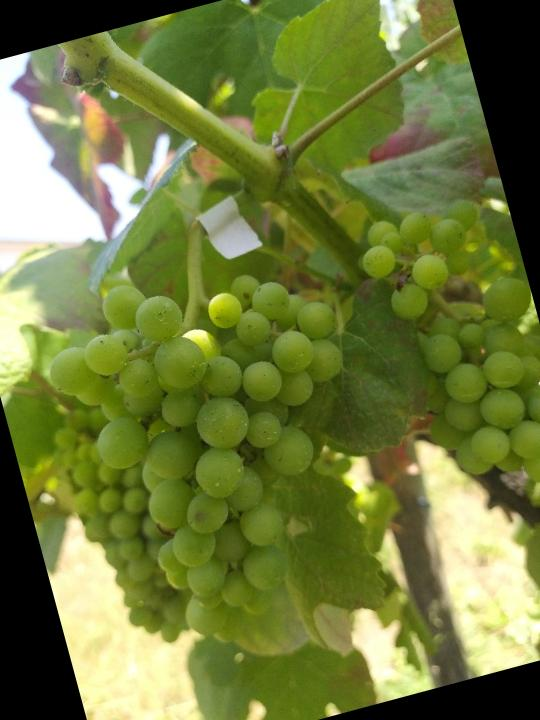grape: (28, 231, 414, 675)
